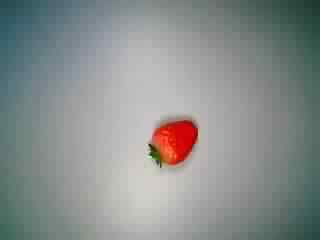strawberry: (141, 112, 209, 176)
